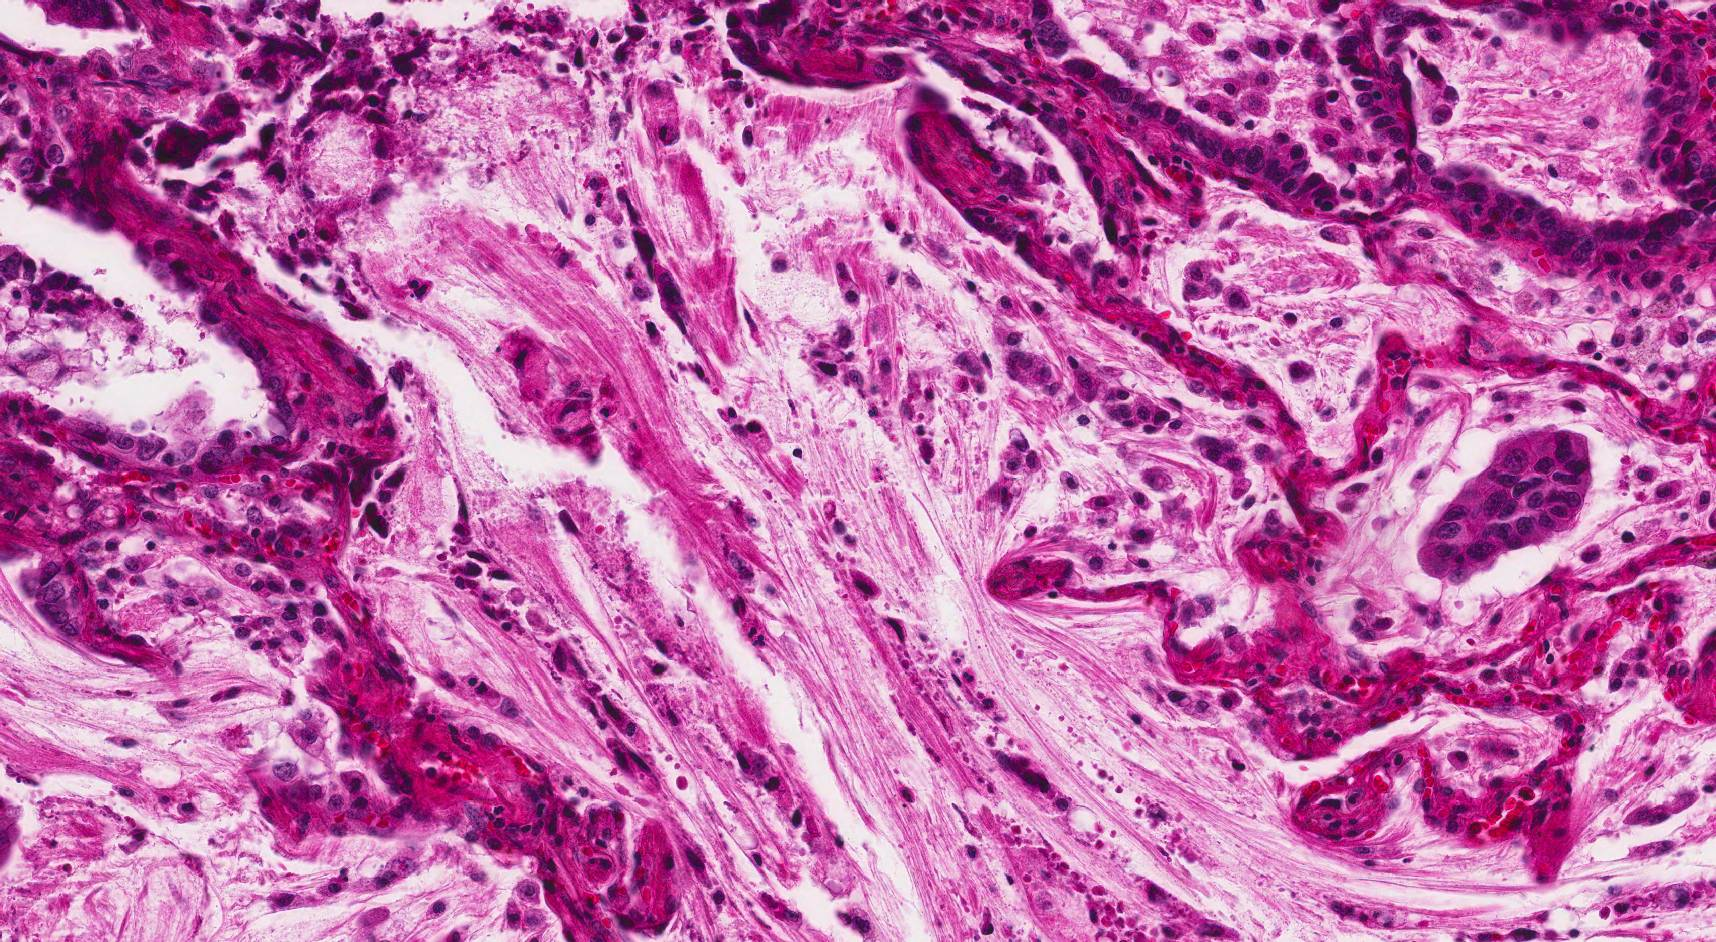stas: (1418, 425, 1589, 578)
